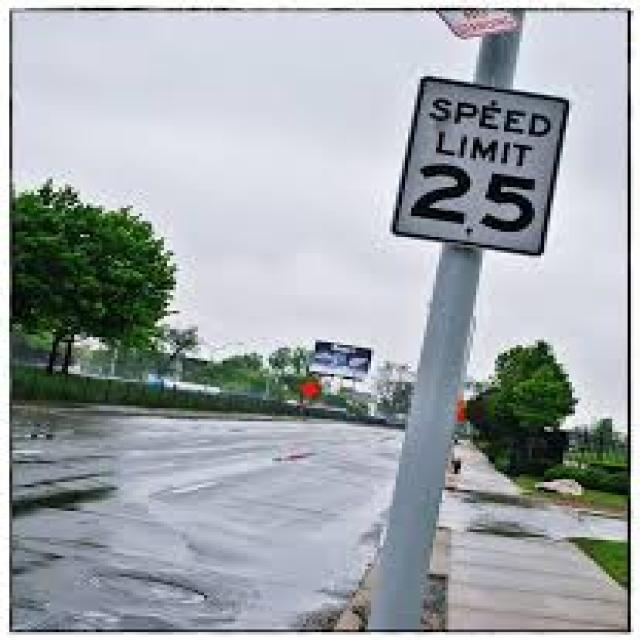speedLimit25: (386, 70, 569, 251)
